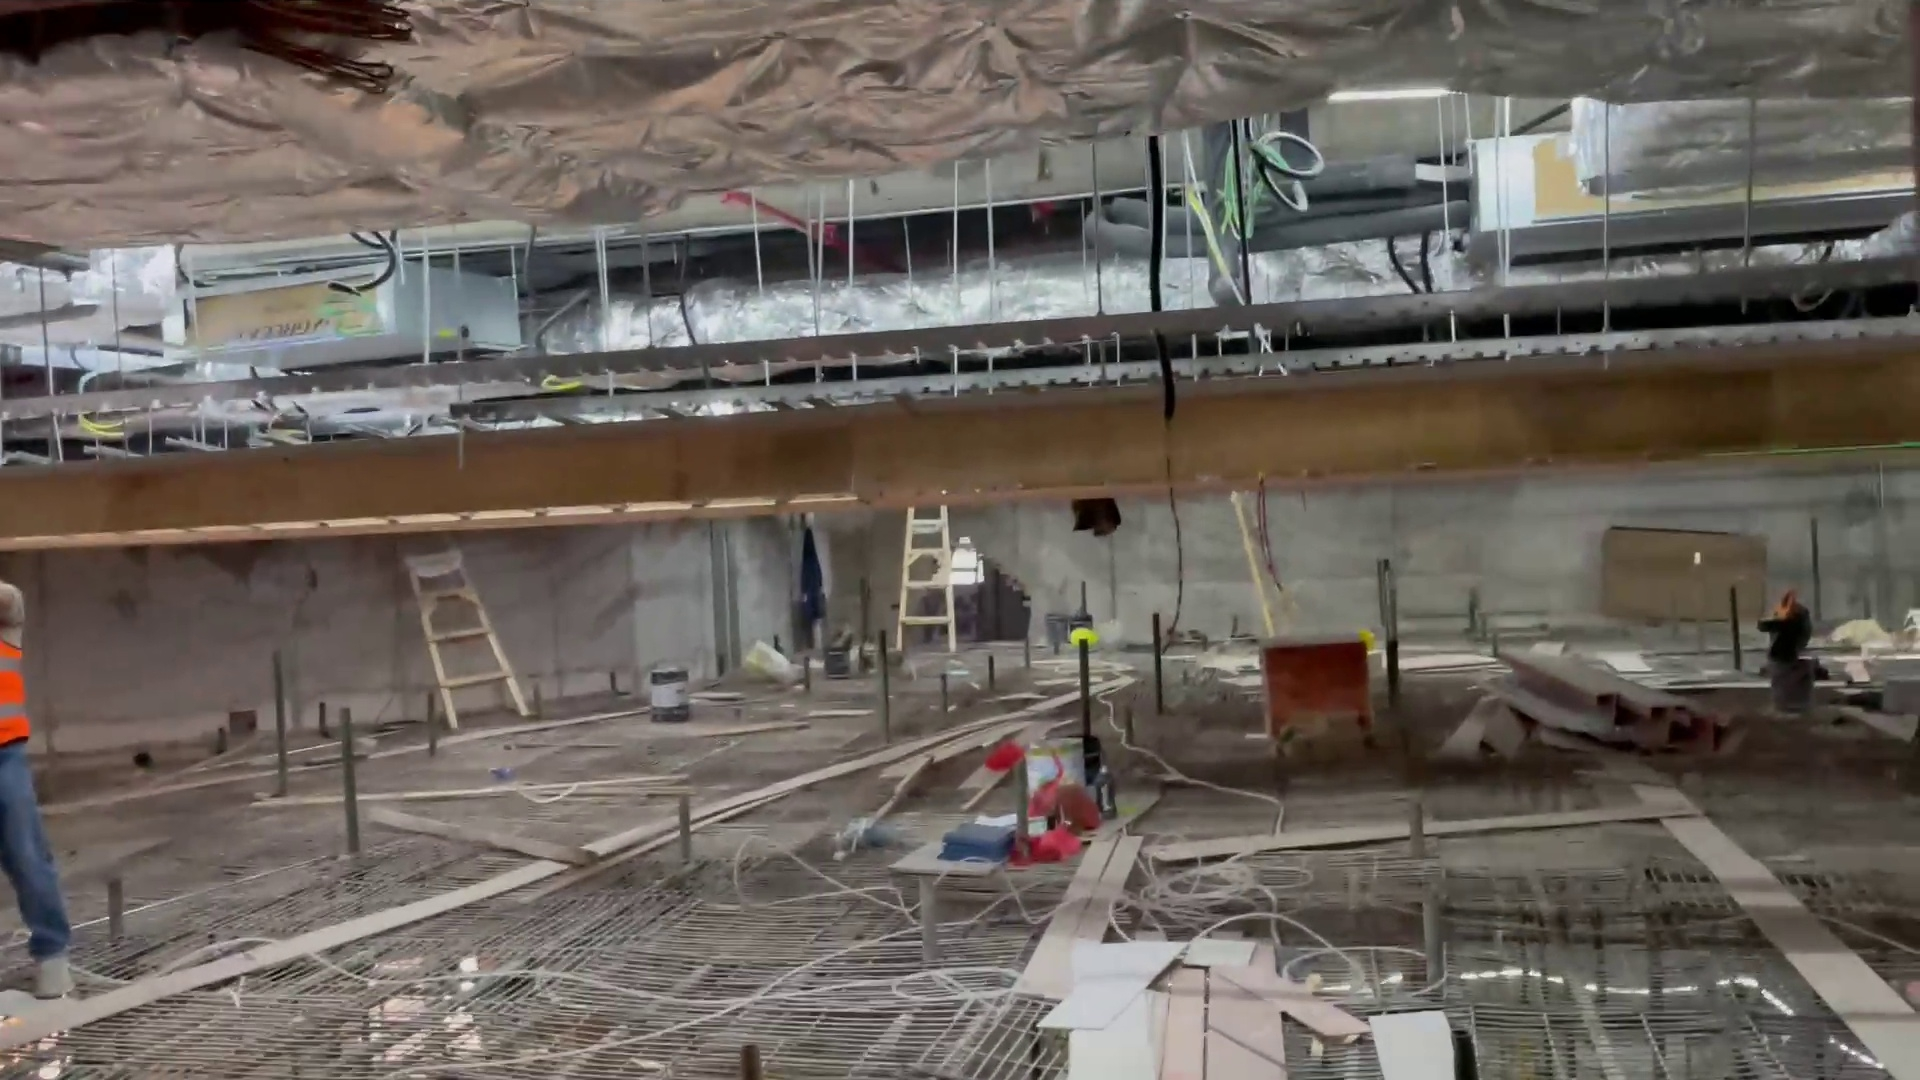helmet: (1068, 626, 1096, 641)
person: (1, 549, 91, 1007)
vest: (1, 636, 46, 747)
